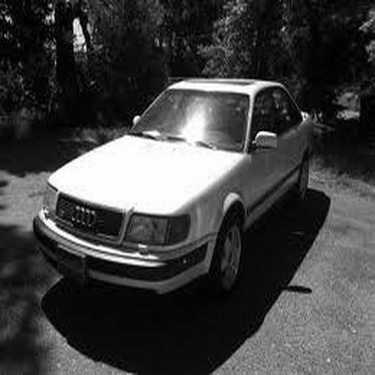car: (33, 68, 314, 304)
